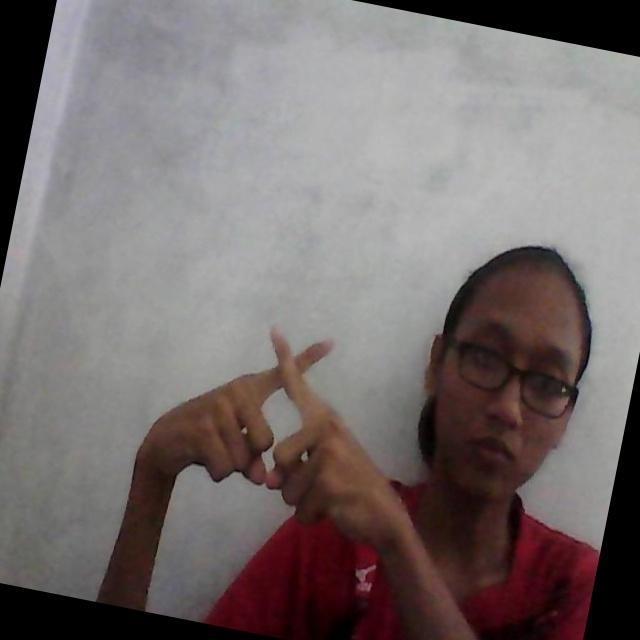X: (192, 316, 388, 498)
